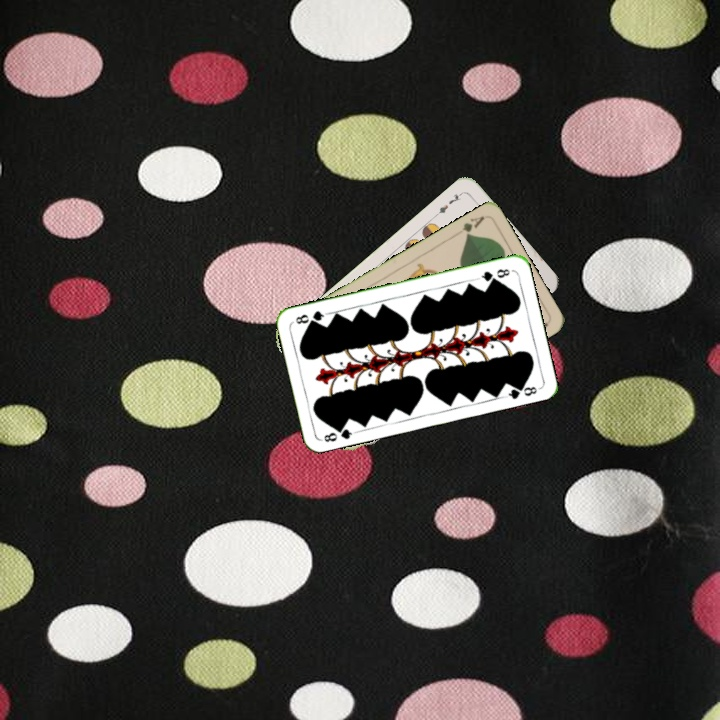E7: (431, 188, 465, 219)
G8: (318, 421, 358, 445), (474, 265, 512, 284)
GA: (458, 211, 487, 240)
